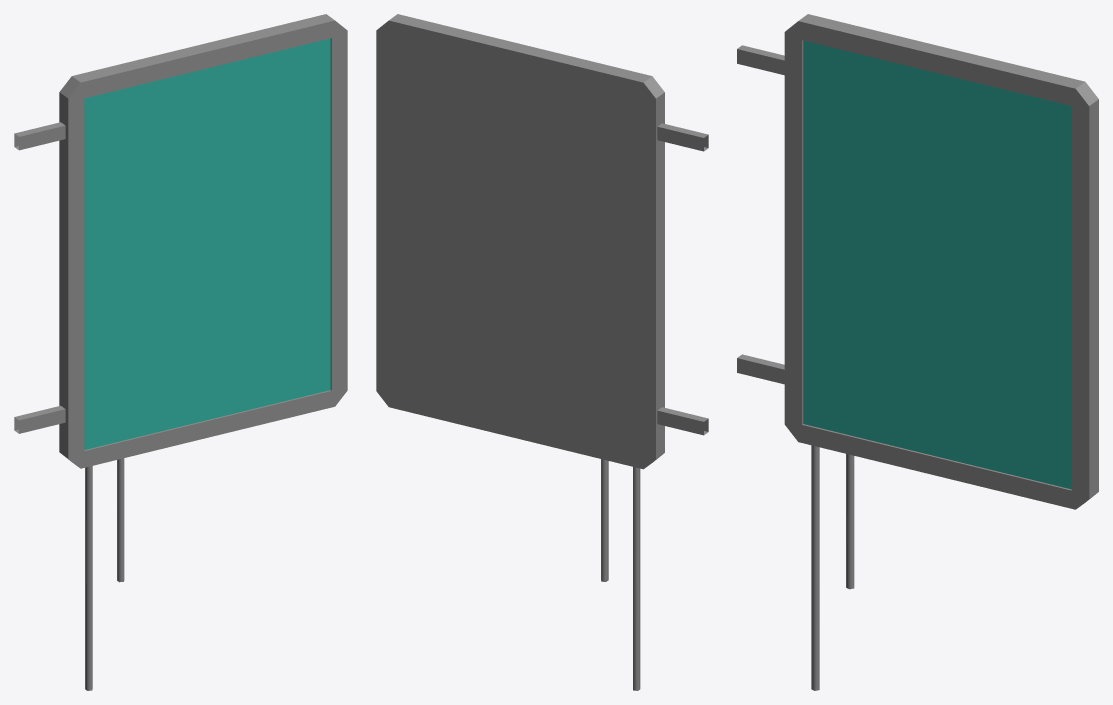
The model's file is advertis pole pic R 1.FBX.
The picture shows the model from 3 angles, left to right: view 1: azimuth 30°, elevation 25°; view 2: azimuth 150°, elevation 25°; view 3: azimuth 330°, elevation 25°; orthographic projection. The views are drawn at different scales.
Visible parts, largest first — view 1: Box157; view 2: Box157; view 3: Box157.
Part boxes in pixels (<box>): Box157: <box>14,14,347,690</box>; Box157: <box>376,14,708,690</box>; Box157: <box>737,14,1098,690</box>.
Bounding box in the file's own units: 1.84 × 3.3 × 0.0868.
